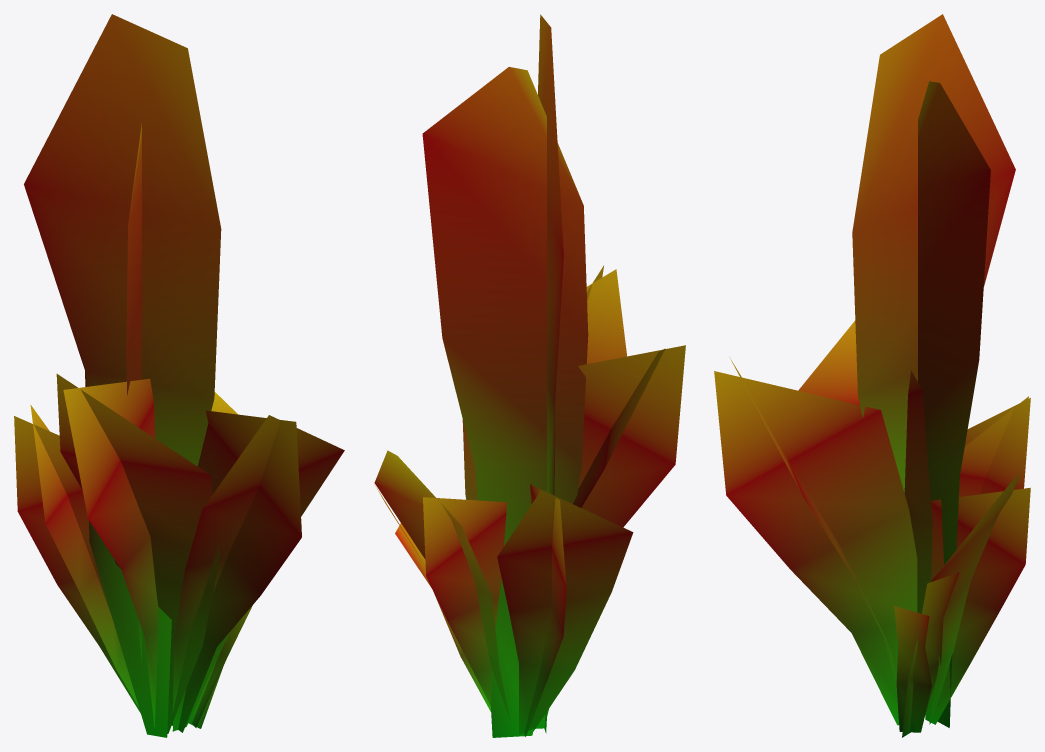
File: Dead Broom Bush_LOD0_Var4_tlpjdhwia.fbx
3 views of the same model, side by side, from view 1: azimuth 30°, elevation 25°; view 2: azimuth 150°, elevation 25°; view 3: azimuth 270°, elevation 25° (orthographic). The views are drawn at different scales.
Visible parts, largest first — view 1: _2617_Var4_LOD0; view 2: _2617_Var4_LOD0; view 3: _2617_Var4_LOD0.
Part boxes in pixels (x1,y1,x2,y2): _2617_Var4_LOD0: [14, 14, 344, 737]; _2617_Var4_LOD0: [374, 14, 685, 737]; _2617_Var4_LOD0: [714, 14, 1030, 737].
Size of the model in its own units: 14.39 by 35.8 by 14.85.
